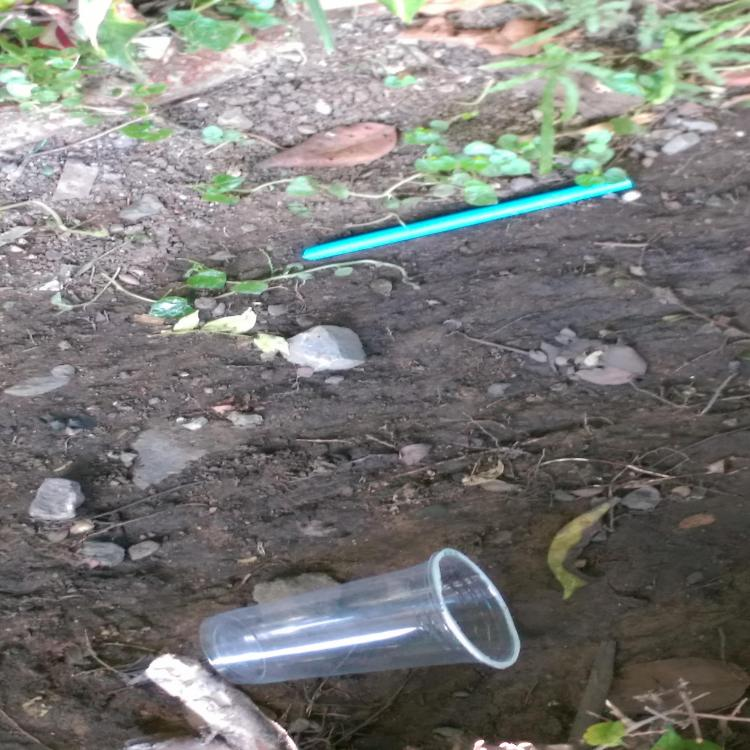Disposable plastic cup: (198, 547, 521, 685)
Plastic straw: (300, 180, 633, 261)
